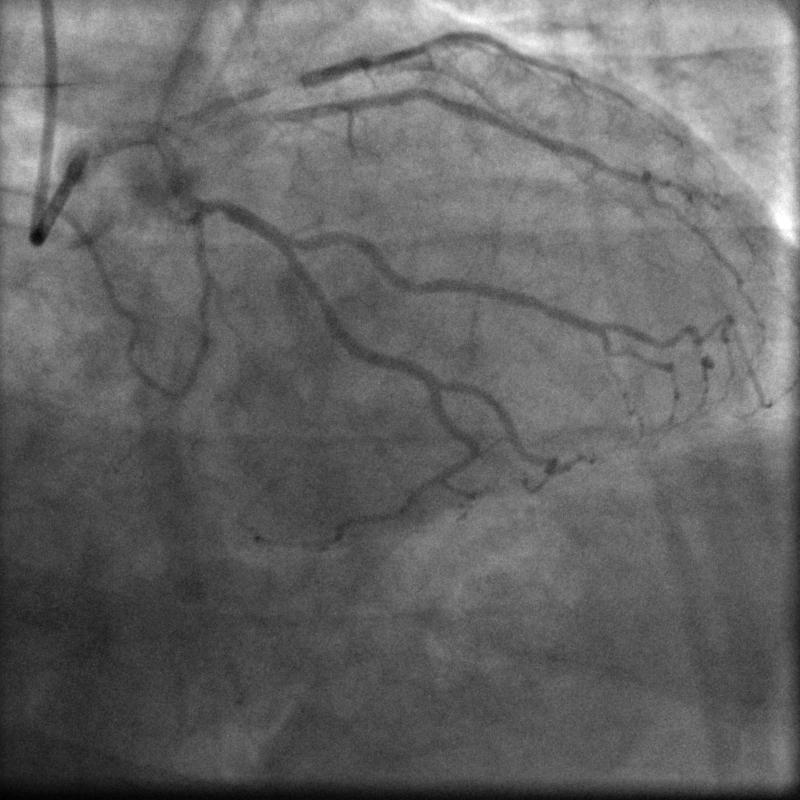Stenosis: (207, 195, 234, 222)
